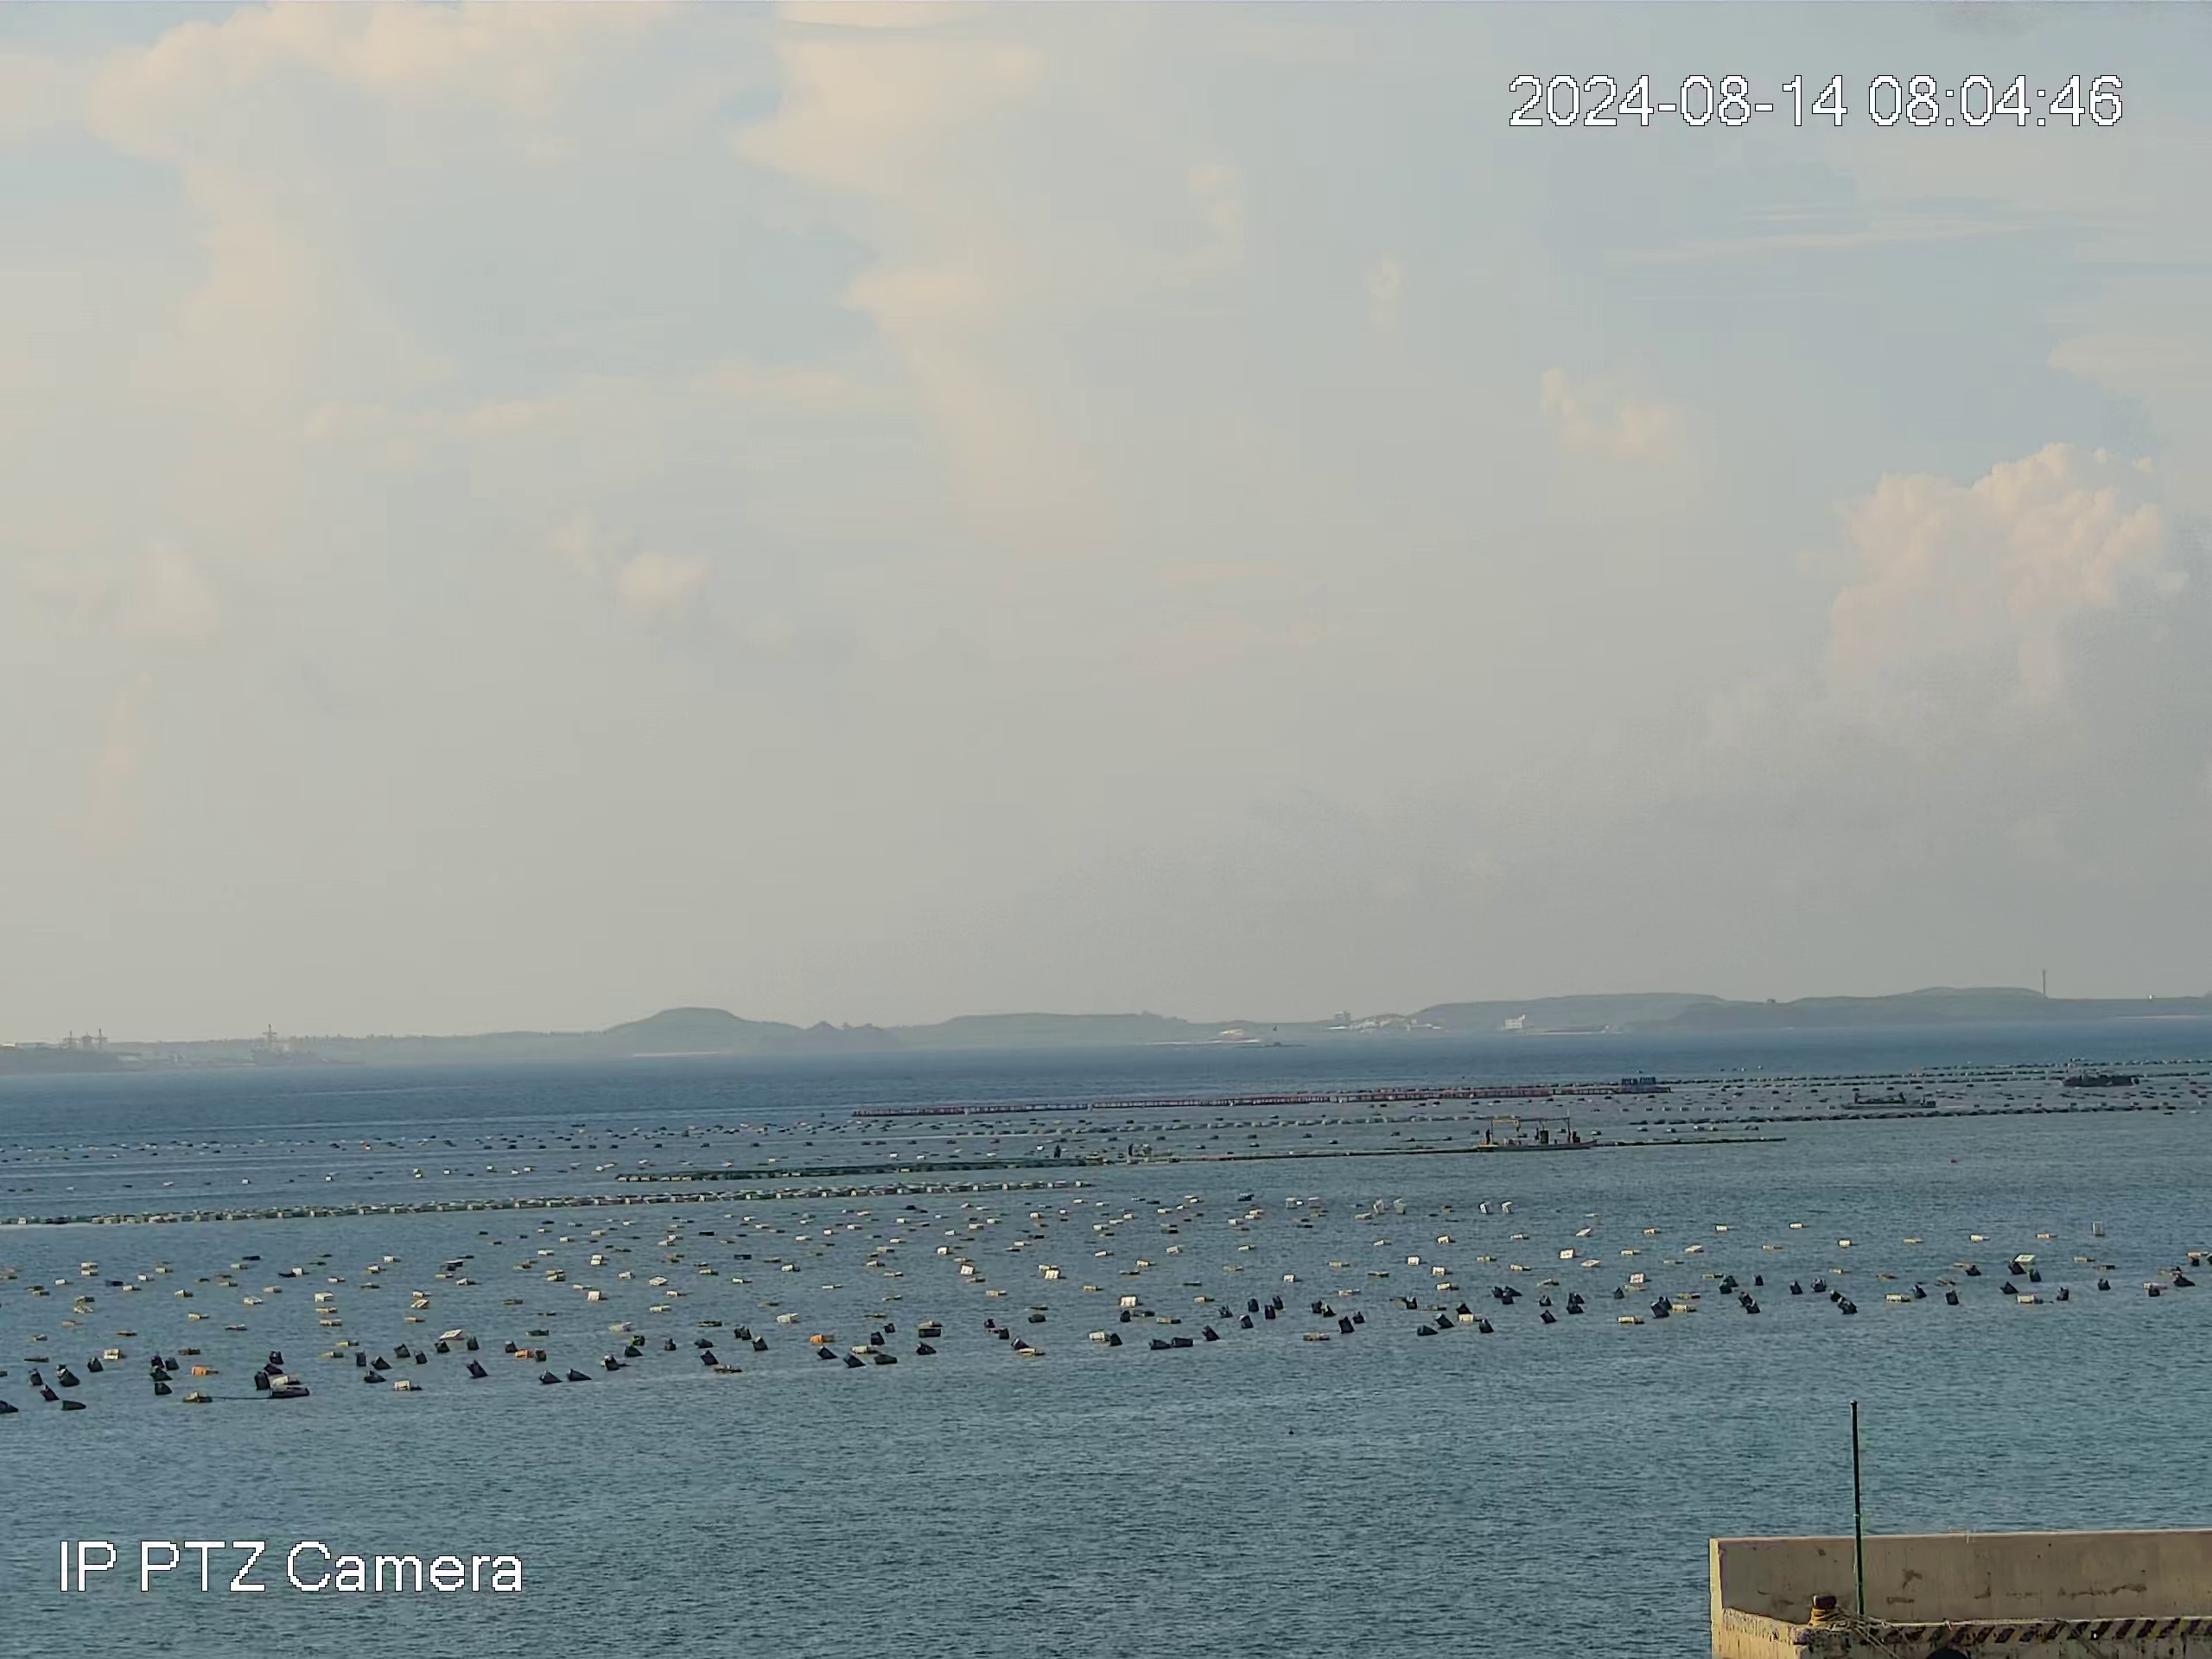boat: (1471, 1107, 1594, 1153), (1842, 1086, 1951, 1117), (2056, 1067, 2144, 1097)
